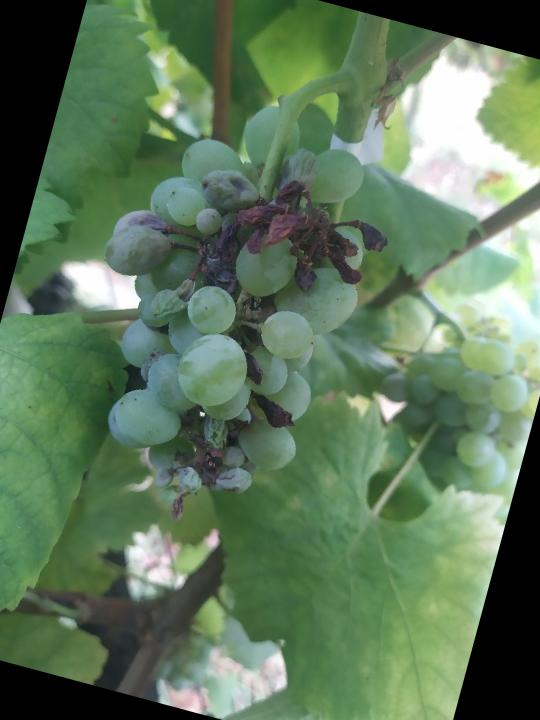grape: (38, 67, 415, 557)
